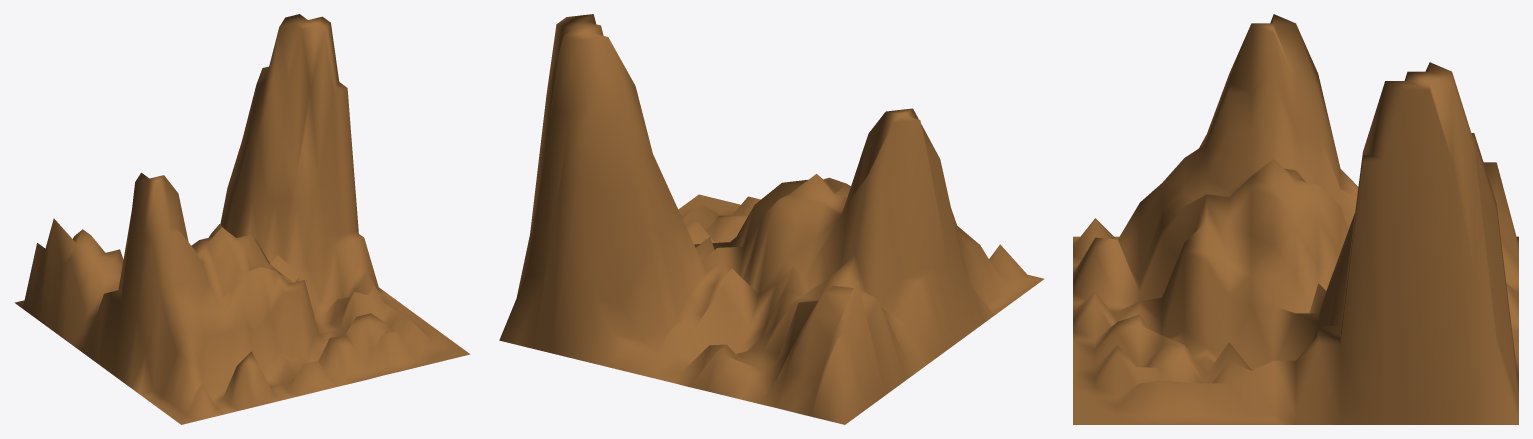
Rendered from Terrain_Test.fbx.
The picture shows the model from 3 angles, left to right: view 1: azimuth 30°, elevation 25°; view 2: azimuth 150°, elevation 25°; view 3: azimuth 270°, elevation 25°; orthographic projection. The views are drawn at different scales.
Visible parts, largest first — view 1: Terrain_Test; view 2: Terrain_Test; view 3: Terrain_Test.
Part boxes in pixels (left/top/right/bottom): Terrain_Test: left=14, top=14, right=470, bottom=424; Terrain_Test: left=499, top=14, right=1044, bottom=424; Terrain_Test: left=1073, top=14, right=1518, bottom=424.
Size of the model in its own units: 2000 by 1610 by 2000.
